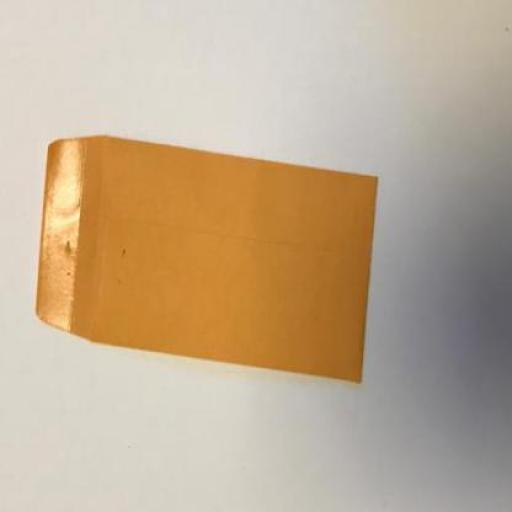paper: (35, 133, 379, 385)
